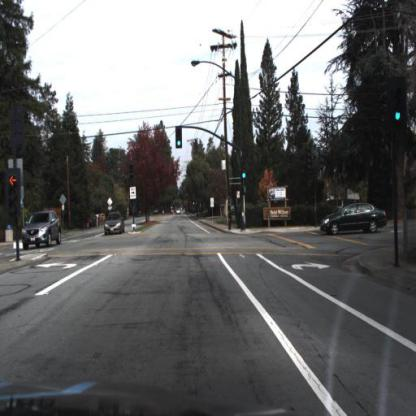car: (319, 203, 389, 241), (319, 200, 389, 234), (22, 210, 63, 253), (103, 208, 126, 239), (105, 214, 126, 234)
trafficLight-Green: (176, 125, 185, 151), (241, 158, 249, 184), (241, 158, 249, 183), (176, 126, 184, 149)
trafficLight-RedLeft: (6, 167, 23, 222)
